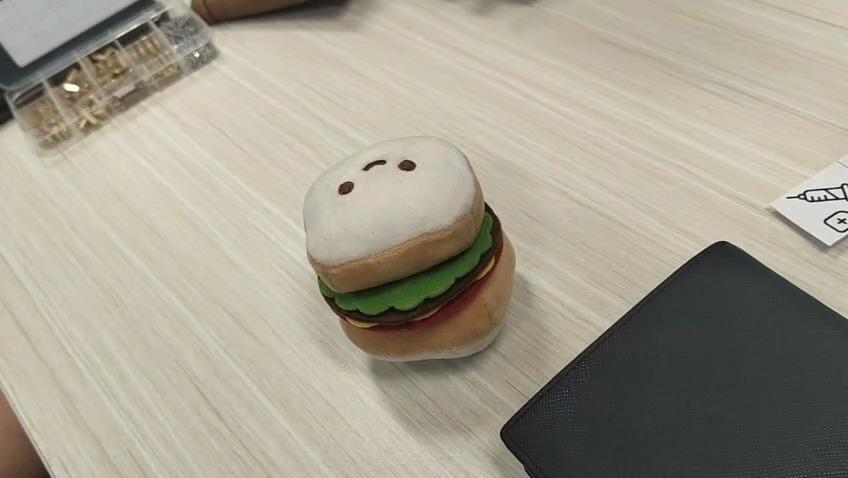objects: (301, 132, 513, 362)
